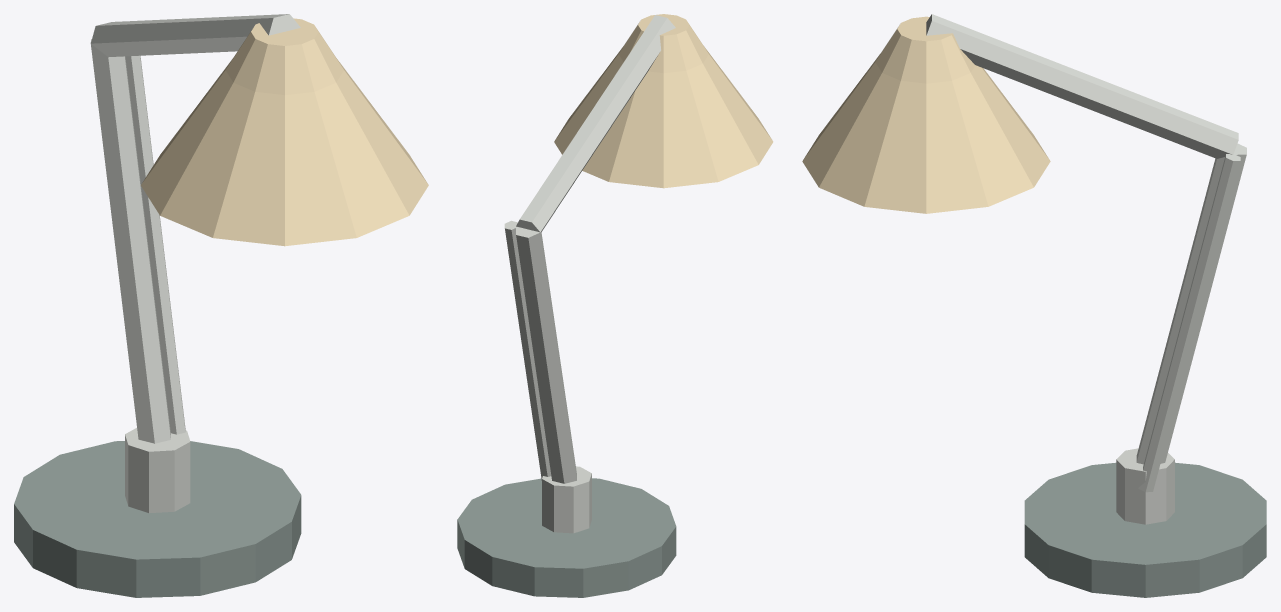
File: lab_desk_lamp.glb
3 renders of one model, left to right at view 1: azimuth 30°, elevation 25°; view 2: azimuth 150°, elevation 25°; view 3: azimuth 270°, elevation 25°, orthographic. The views are drawn at different scales.
Visible parts, largest first — view 1: lab_desk_lamp, Head; view 2: lab_desk_lamp, Head; view 3: Head, lab_desk_lamp.
Boxes of the visible parts, x1=… form: lab_desk_lamp: x1=14, y1=39, x2=301, y2=597; Head: x1=91, y1=14, x2=428, y2=246; lab_desk_lamp: x1=457, y1=220, x2=676, y2=597; Head: x1=516, y1=14, x2=773, y2=232; Head: x1=802, y1=14, x2=1238, y2=213; lab_desk_lamp: x1=1024, y1=143, x2=1266, y2=597.
Size of the model in its own units: 0.34 by 0.7975 by 0.6357.
